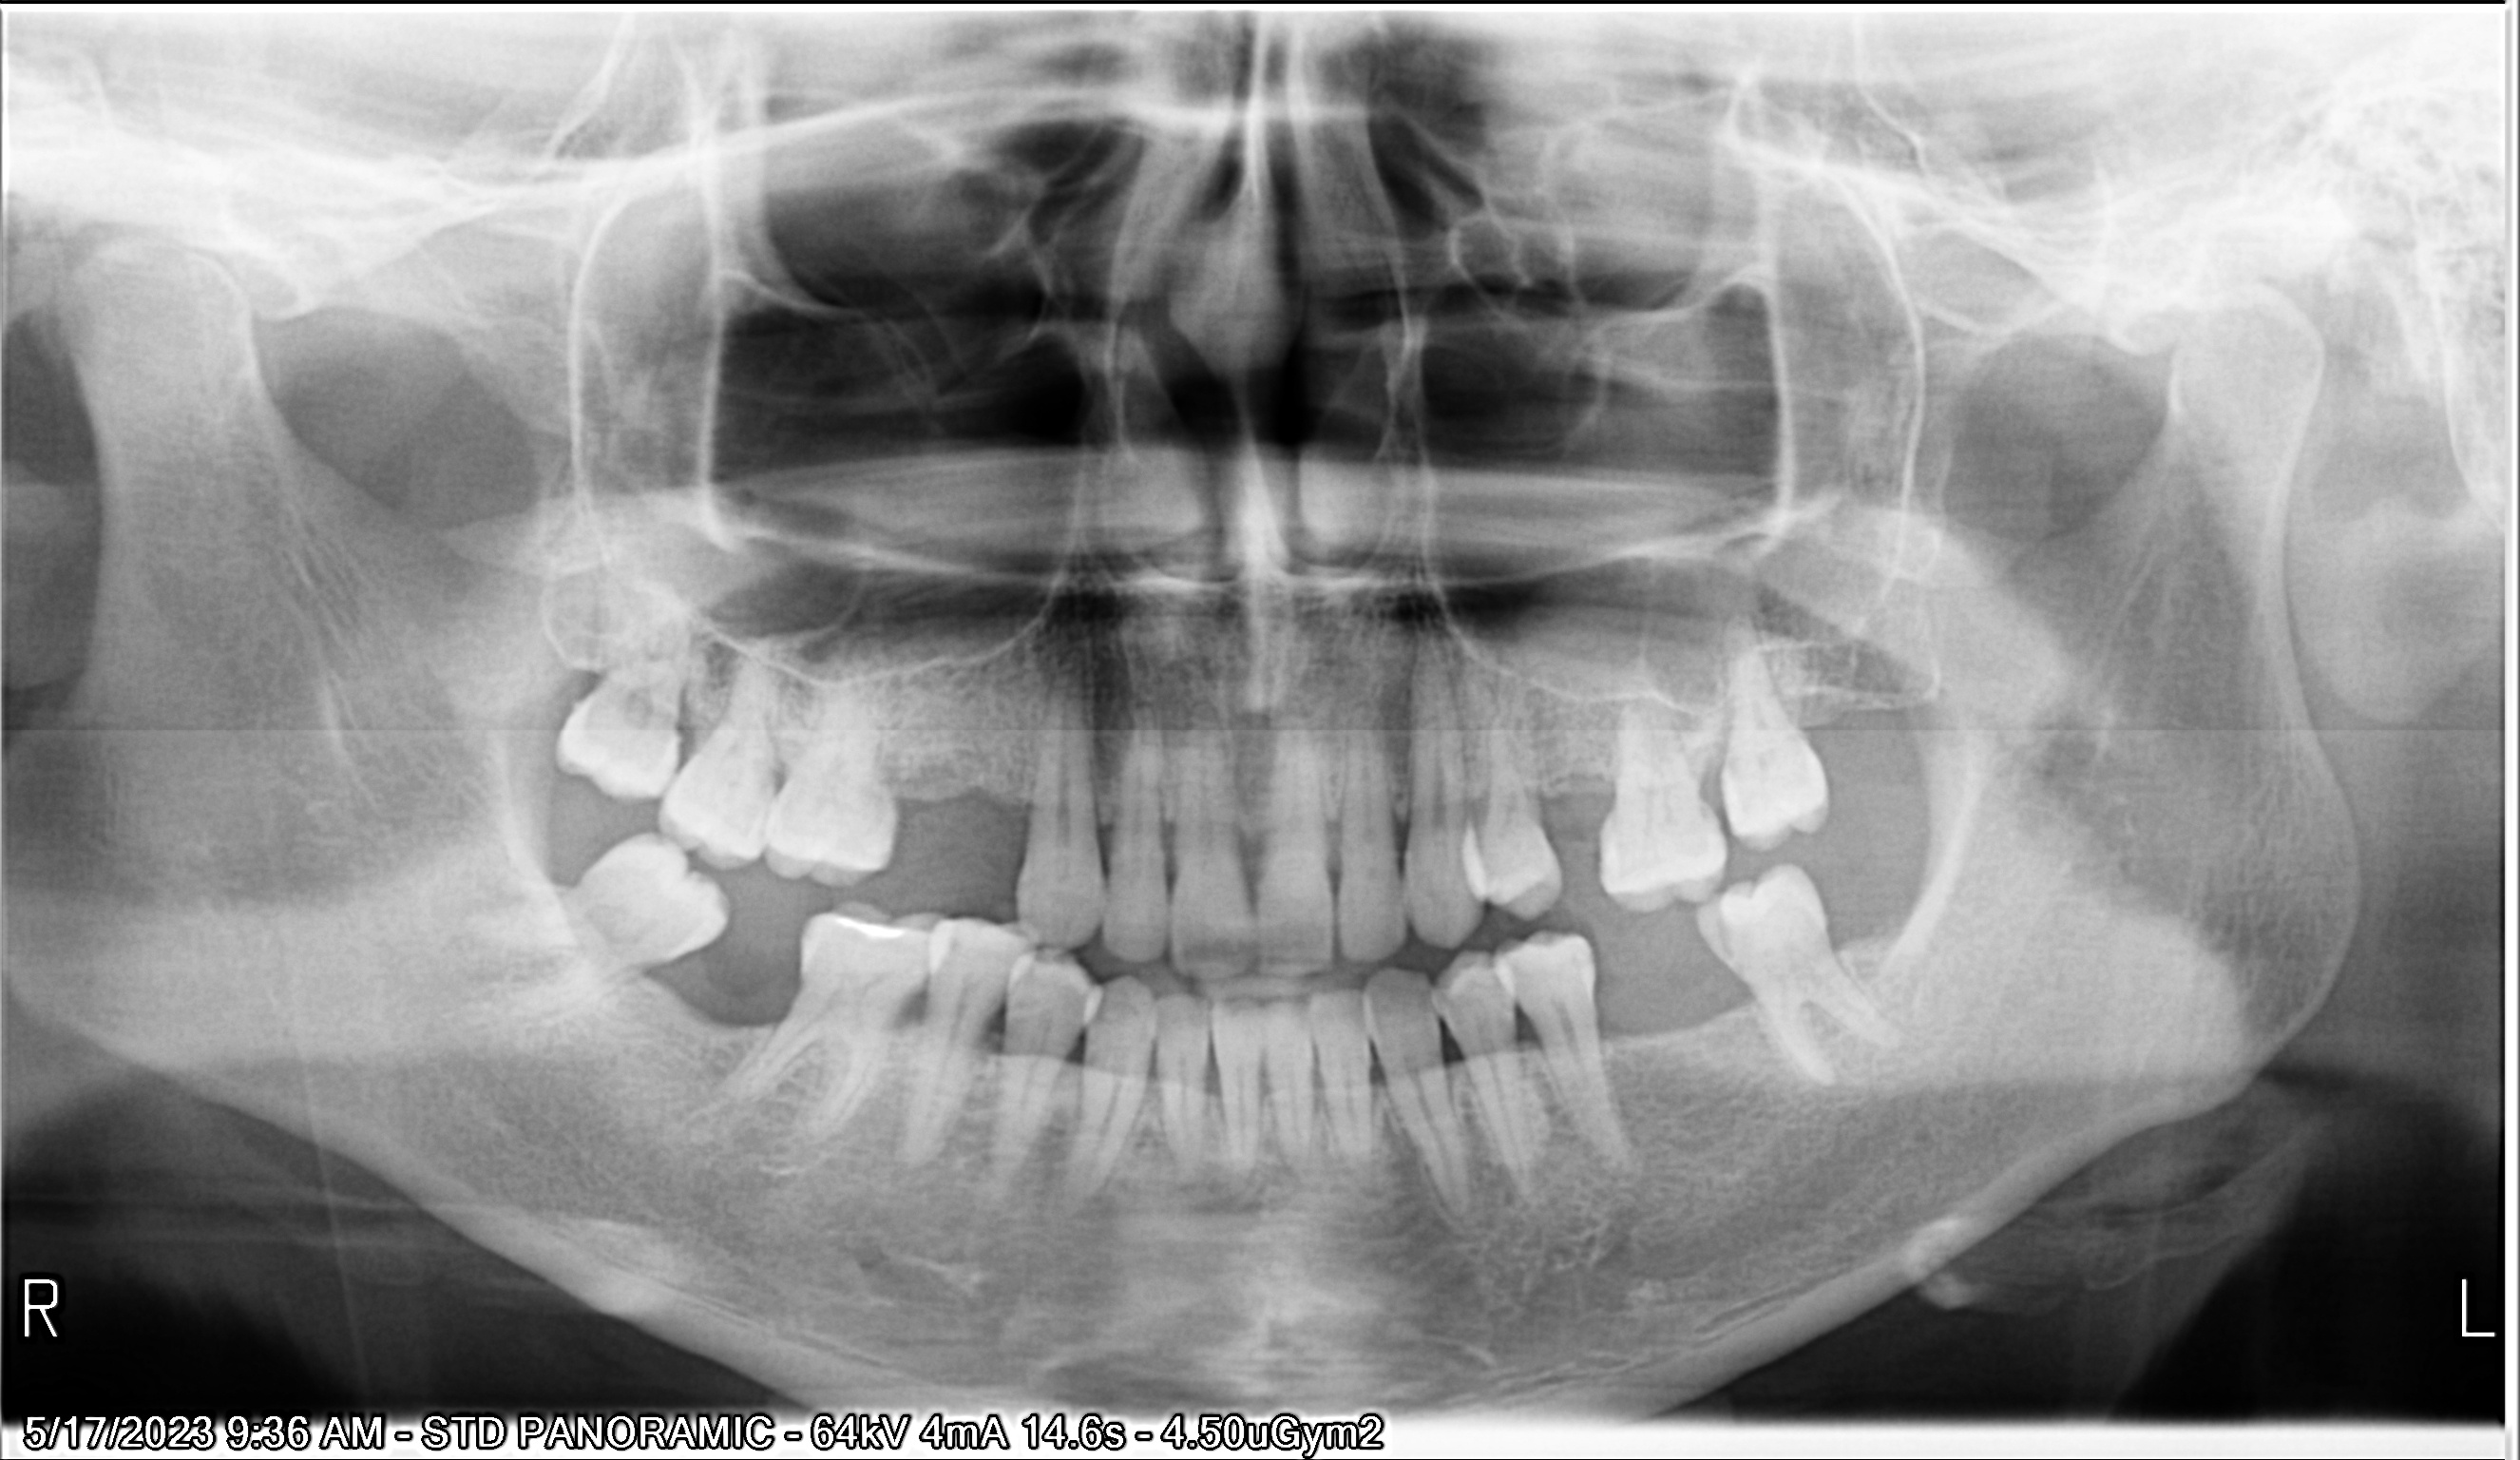BON: (842, 323, 2520, 1140), (677, 508, 2067, 1460), (641, 499, 1964, 1460), (623, 508, 1897, 1460), (594, 506, 1817, 1460), (566, 501, 1728, 1460), (528, 490, 1610, 1460), (486, 476, 1494, 1460), (439, 464, 1360, 1460)
